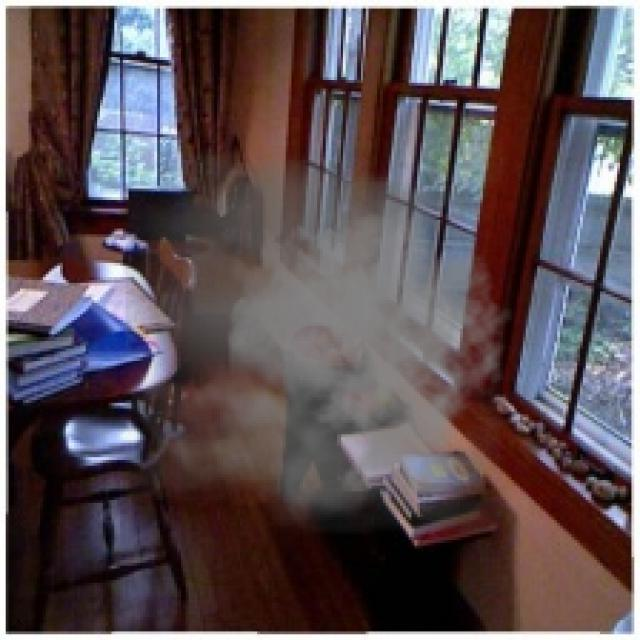smoke: (126, 152, 514, 534)
